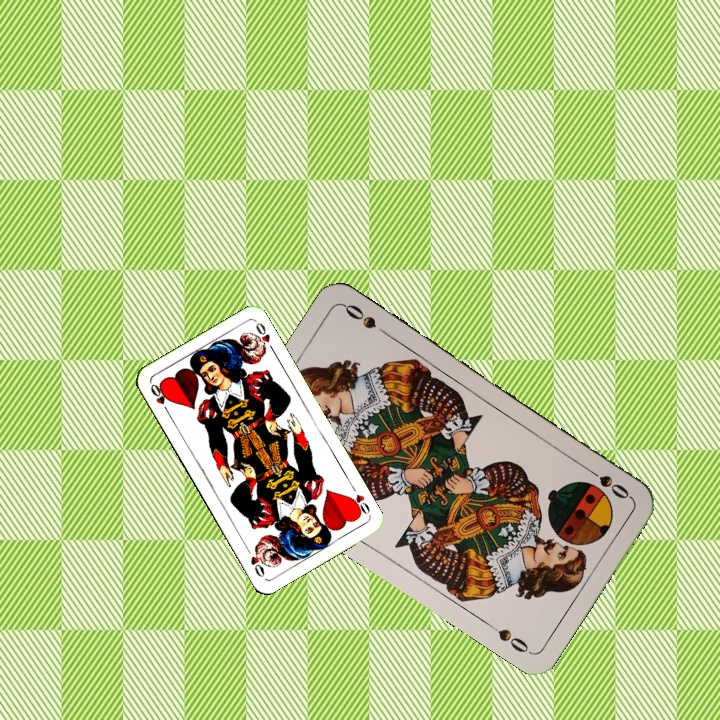HO: (146, 380, 172, 416), (345, 490, 373, 518)
SO: (581, 462, 634, 502)
